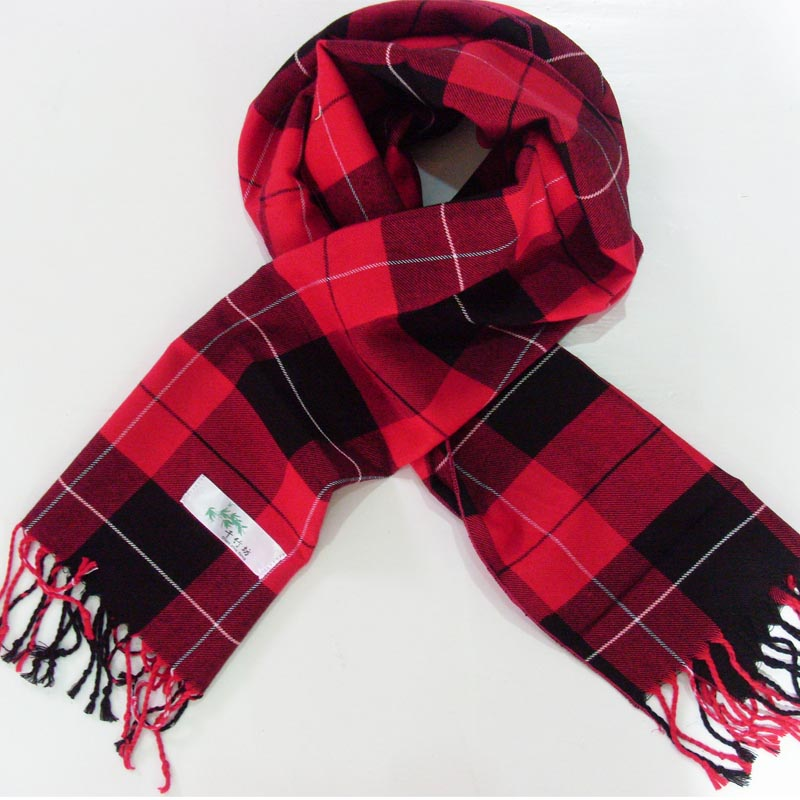flexible: (29, 1, 800, 792)
